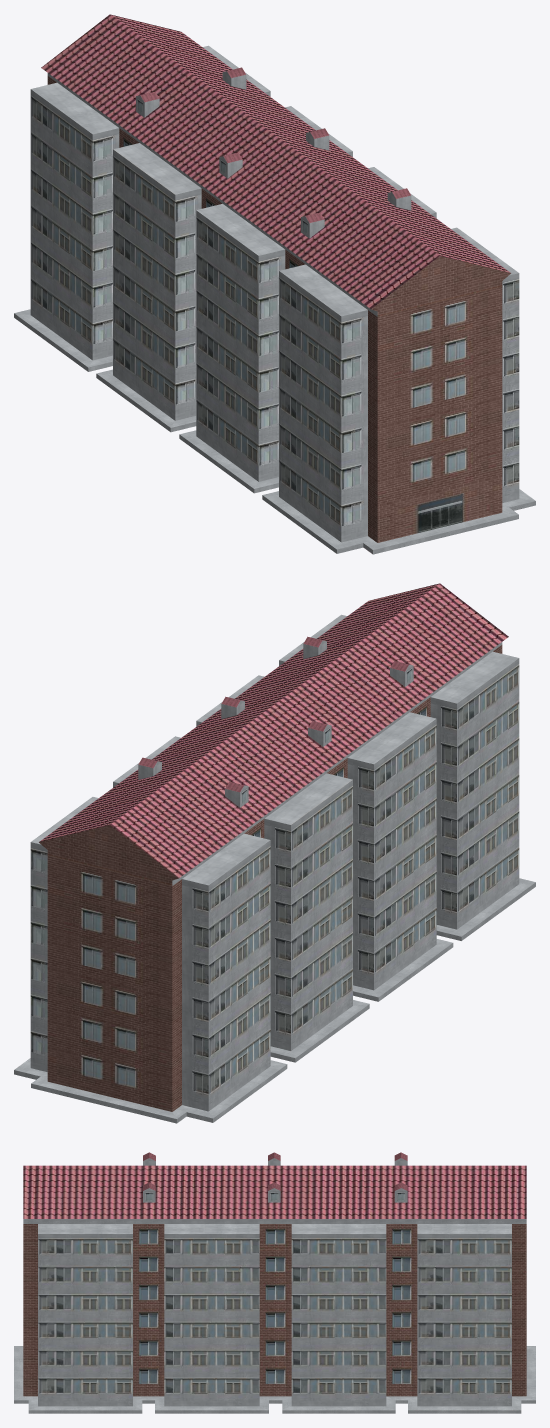
Rendered from sm_bud.fbx.
3 views of the same model, one above another, from view 1: azimuth 30°, elevation 25°; view 2: azimuth 150°, elevation 25°; view 3: azimuth 270°, elevation 25° (orthographic). The views are drawn at different scales.
Visible parts, largest first — view 1: sm_bud; view 2: sm_bud; view 3: sm_bud.
Part boxes in pixels (x1=…): sm_bud: x1=14, y1=14, x2=535, y2=554; sm_bud: x1=14, y1=583, x2=535, y2=1123; sm_bud: x1=14, y1=1152, x2=535, y2=1413.
Bounding box in the file's own units: 18.79 × 24.93 × 55.94.
